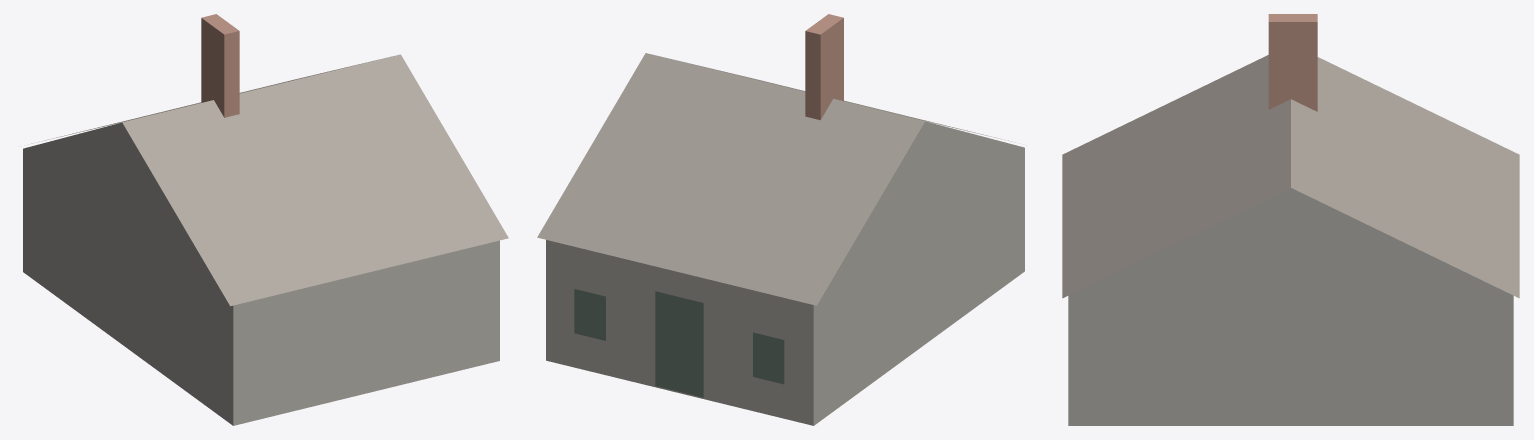
File: recon_1835_south_d4_019__recommended_1835.glb
3 views of the same model, side by side, from view 1: azimuth 30°, elevation 25°; view 2: azimuth 150°, elevation 25°; view 3: azimuth 270°, elevation 25° (orthographic). The views are drawn at different scales.
Visible parts, largest first — view 1: recon_1835_south_d4_019__recommended_1835; view 2: recon_1835_south_d4_019__recommended_1835; view 3: recon_1835_south_d4_019__recommended_1835.
Boxes of the visible parts, box(x1,y1,x2,y2) form: recon_1835_south_d4_019__recommended_1835: box(23, 14, 508, 425); recon_1835_south_d4_019__recommended_1835: box(537, 14, 1024, 425); recon_1835_south_d4_019__recommended_1835: box(1062, 14, 1519, 425).
Size of the model in its own units: 6.58 by 6.79 by 8.84.
